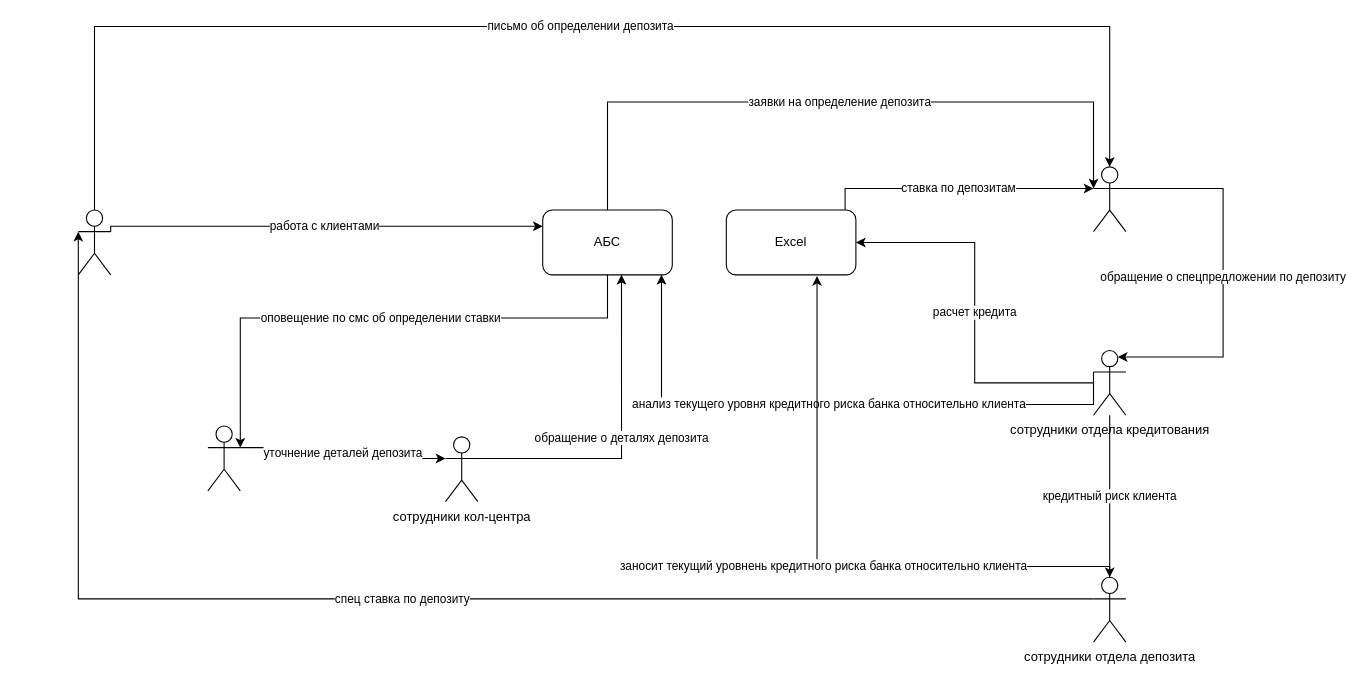
Some shapes in this 1364 by 684 pixel diagram are drawn without their labels. Here are the shapes that lost their labels. From the top down, the centre of each, then its label:
At (1109,199): "сотрудники бэк-офиса".
At (94,242): "сотрудники фронт-офиса".
At (223,458): "клиент".
